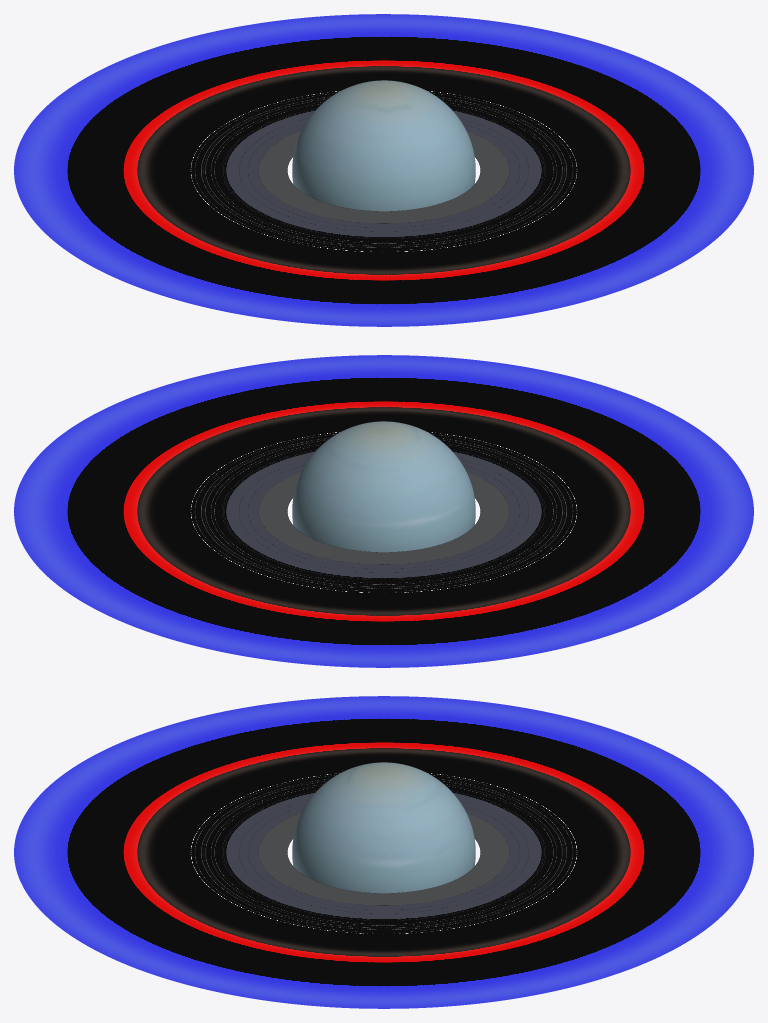
File: uranus.glb
3 views of the same model, one above another, from view 1: azimuth 30°, elevation 25°; view 2: azimuth 150°, elevation 25°; view 3: azimuth 270°, elevation 25° (orthographic).
Visible parts, largest first — view 1: uranus_rings, uranus_globe; view 2: uranus_rings, uranus_globe; view 3: uranus_rings, uranus_globe.
Part boxes in pixels (x1,y1,x2,y2): uranus_rings: (14,14,753,326); uranus_globe: (292,80,475,211); uranus_rings: (14,355,753,667); uranus_globe: (292,421,475,552); uranus_rings: (14,696,753,1008); uranus_globe: (292,762,475,893).
Bounding box in the file's own units: 8.06 × 1.95 × 8.06.
2 materials, 2 textured.
